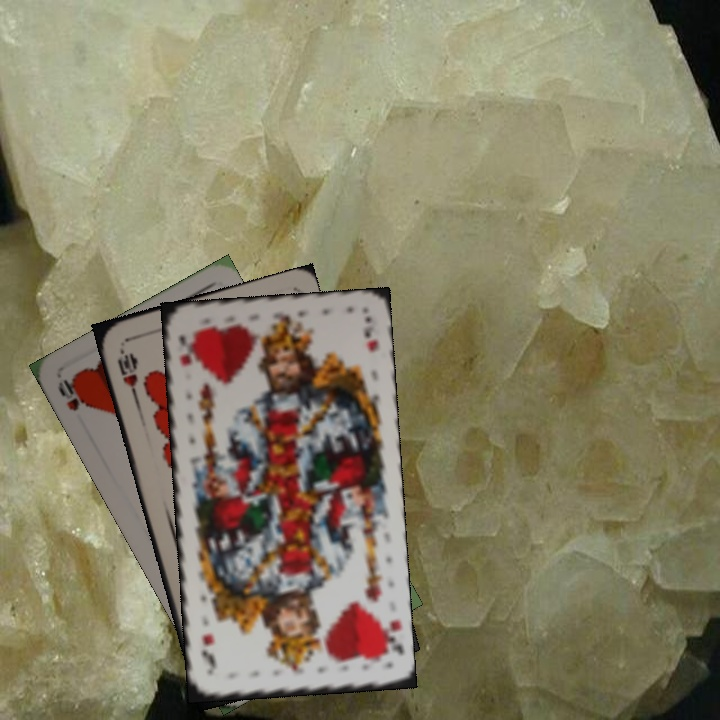H10: (113, 344, 140, 401)
HK: (376, 612, 406, 659), (175, 327, 199, 368)
HO: (53, 375, 90, 414)
